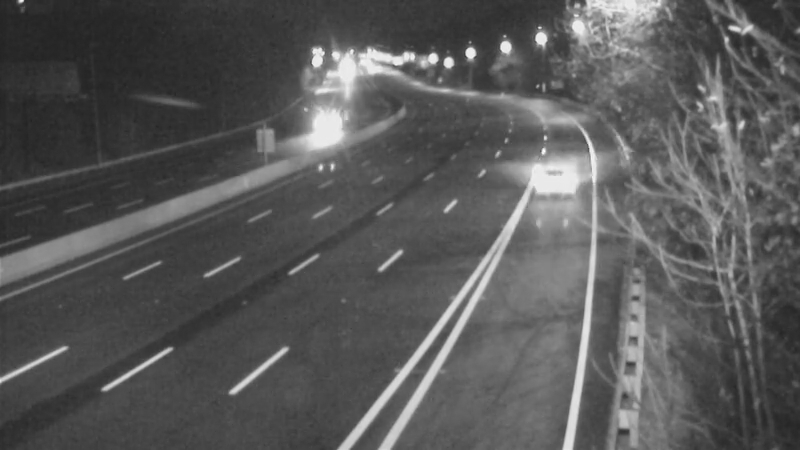vehicle: (510, 132, 590, 212), (300, 108, 350, 158)
